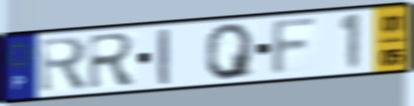1: (337, 11, 363, 74)
F: (268, 14, 322, 79)
I: (155, 26, 172, 88)
Q: (203, 21, 258, 82)
R: (86, 30, 139, 92), (38, 34, 90, 96)
